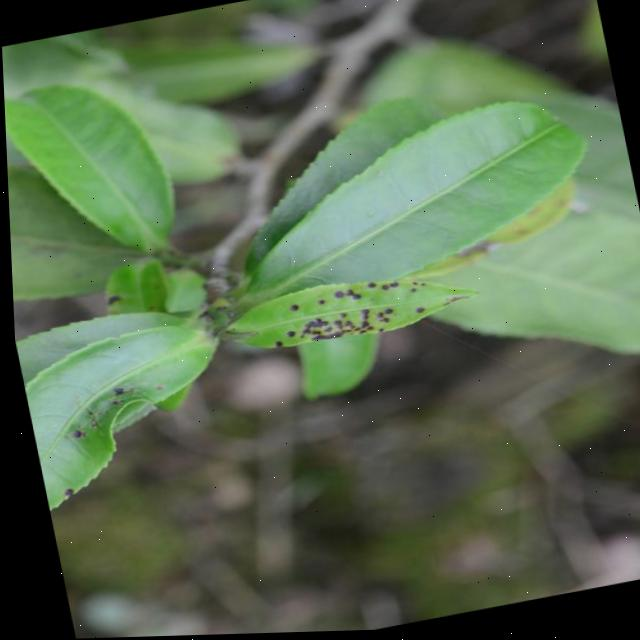Tea red scab: (298, 278, 452, 348), (315, 264, 429, 309)
